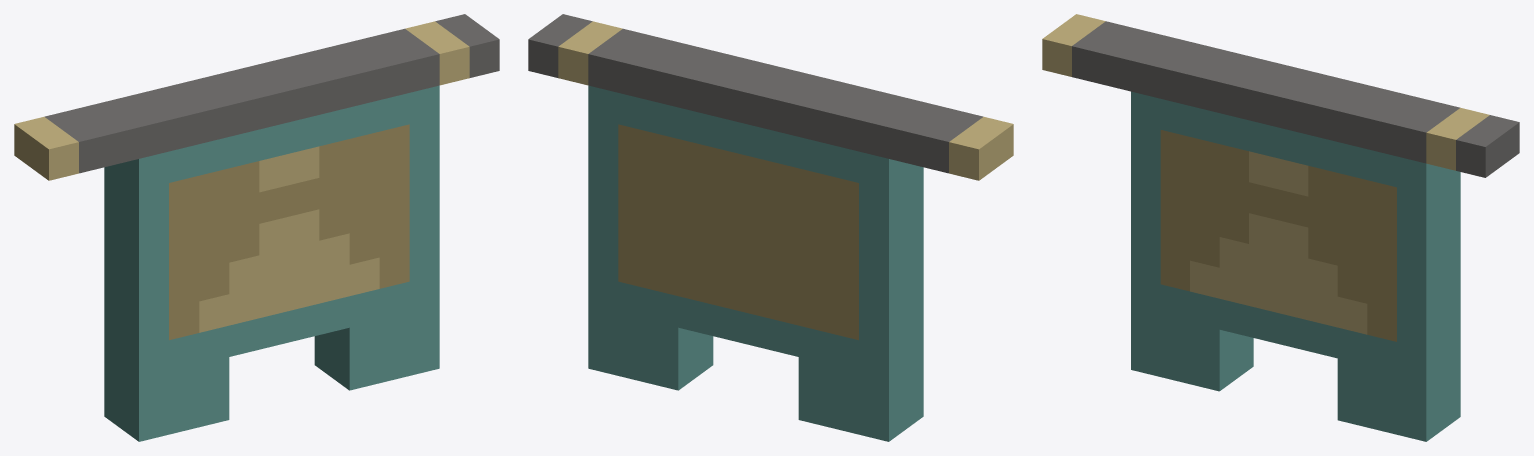
File: banner_r.glb
The picture shows the model from 3 angles, left to right: view 1: azimuth 30°, elevation 25°; view 2: azimuth 150°, elevation 25°; view 3: azimuth 330°, elevation 25°; orthographic projection.
Bounding box in the file's own units: 15 × 10 × 2.
